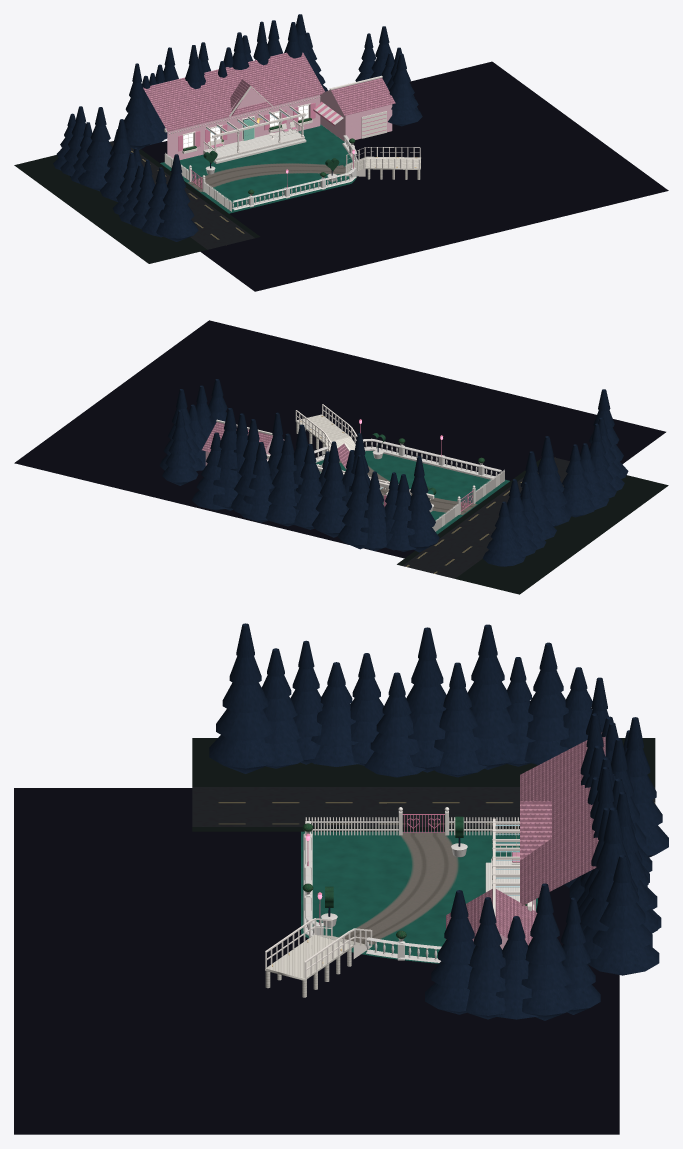
The model's file is your-car-is-at-the-bottom-of-the-lake.glb.
The picture shows the model from 3 angles, top to bottom: view 1: azimuth 30°, elevation 25°; view 2: azimuth 150°, elevation 25°; view 3: azimuth 270°, elevation 25°; orthographic projection. The views are drawn at different scales.
Visible parts, largest first — view 1: set.lake.mirror.nocast, set.pine, set.shingles, set.lawn.nocast, set.bank.nocast, set.white_trim, set.clapboard, set.road.nocast, set.porch_boards, set.boathouse_clap, set.carrara, set.pier_boards (+3 smaller); view 2: set.lake.mirror.nocast, set.pine, set.bank.nocast, set.road.nocast, set.lawn.nocast, set.carrara, set.pier_boards, set.white_trim, set.picket_white, set.shingles; view 3: set.lake.mirror.nocast, set.pine, set.lawn.nocast, set.road.nocast, set.shingles, set.bank.nocast, set.white_trim, set.pier_boards, set.carrara, set.picket_white, set.porch_boards, set.picket_white.001.
Part boxes in pixels (bbox=[...]): set.lake.mirror.nocast: bbox=[141, 61, 668, 291]; set.pine: bbox=[53, 14, 422, 241]; set.shingles: bbox=[143, 52, 395, 131]; set.lawn.nocast: bbox=[160, 124, 356, 213]; set.bank.nocast: bbox=[14, 149, 260, 263]; set.white_trim: bbox=[164, 75, 420, 176]; set.clapboard: bbox=[167, 88, 320, 159]; set.road.nocast: bbox=[109, 141, 254, 249]; set.porch_boards: bbox=[203, 129, 306, 163]; set.boathouse_clap: bbox=[320, 90, 392, 141]; set.carrara: bbox=[233, 135, 357, 210]; set.pier_boards: bbox=[345, 156, 421, 179]; set.lake.mirror.nocast: bbox=[14, 320, 665, 558]; set.pine: bbox=[159, 379, 628, 566]; set.bank.nocast: bbox=[397, 459, 668, 594]; set.road.nocast: bbox=[403, 457, 569, 578]; set.lawn.nocast: bbox=[316, 451, 509, 534]; set.carrara: bbox=[314, 438, 501, 479]; set.pier_boards: bbox=[295, 414, 355, 454]; set.white_trim: bbox=[216, 404, 434, 498]; set.picket_white: bbox=[432, 469, 504, 531]; set.shingles: bbox=[202, 422, 349, 469]; set.lake.mirror.nocast: bbox=[14, 788, 619, 1134]; set.pine: bbox=[209, 623, 668, 1020]; set.lawn.nocast: bbox=[301, 831, 537, 963]; set.road.nocast: bbox=[192, 787, 655, 826]; set.shingles: bbox=[446, 732, 605, 945]; set.bank.nocast: bbox=[192, 738, 655, 831]; set.white_trim: bbox=[265, 818, 534, 978]; set.pier_boards: bbox=[265, 934, 370, 997]; set.carrara: bbox=[303, 821, 441, 962]; set.picket_white: bbox=[305, 807, 518, 835]; set.porch_boards: bbox=[485, 859, 519, 902]; set.picket_white.001: bbox=[311, 811, 519, 835].
Bounding box in the file's own units: 52 × 10.64 × 36.76.
28 materials, 17 textured.
